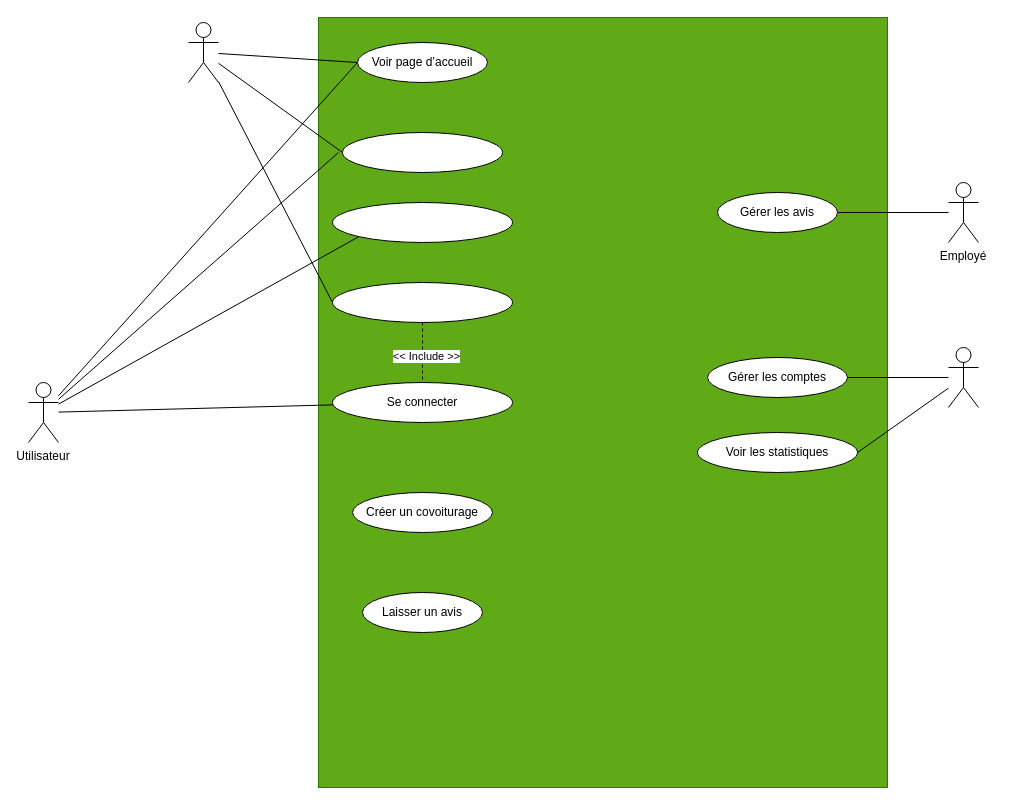
Image size: 1020x805. Some labels were removed from this diagram. The shapes that lost their labels are listed below. From the top down, each one's centre as x and y in pixels, then its label:
[203,52]: Visiteur
[422,152]: Rechercher un itinéraire
[422,222]: Participer à un covoiturage
[422,302]: Créer un compte
[963,377]: Administrateur
